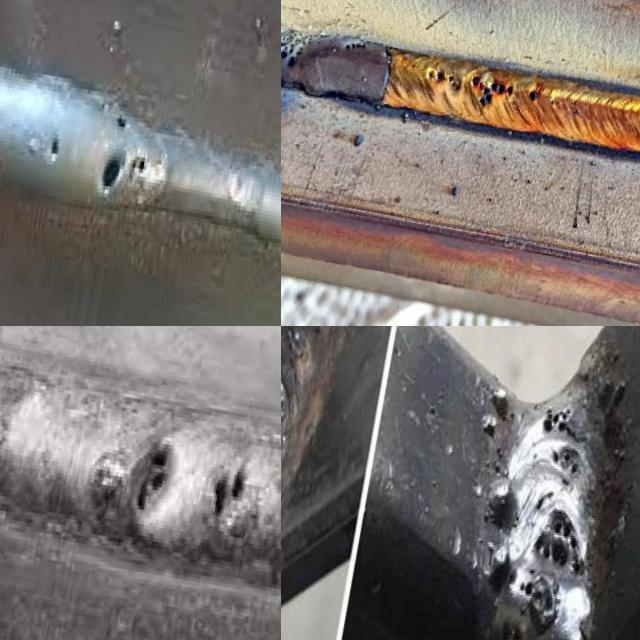defect: (127, 437, 179, 524), (531, 501, 586, 583), (538, 403, 582, 480), (517, 566, 562, 632), (204, 457, 247, 526), (97, 153, 148, 196), (469, 74, 520, 117), (425, 66, 463, 92), (281, 35, 309, 69), (110, 101, 132, 139), (336, 35, 368, 57), (44, 132, 65, 165), (524, 86, 540, 104)
